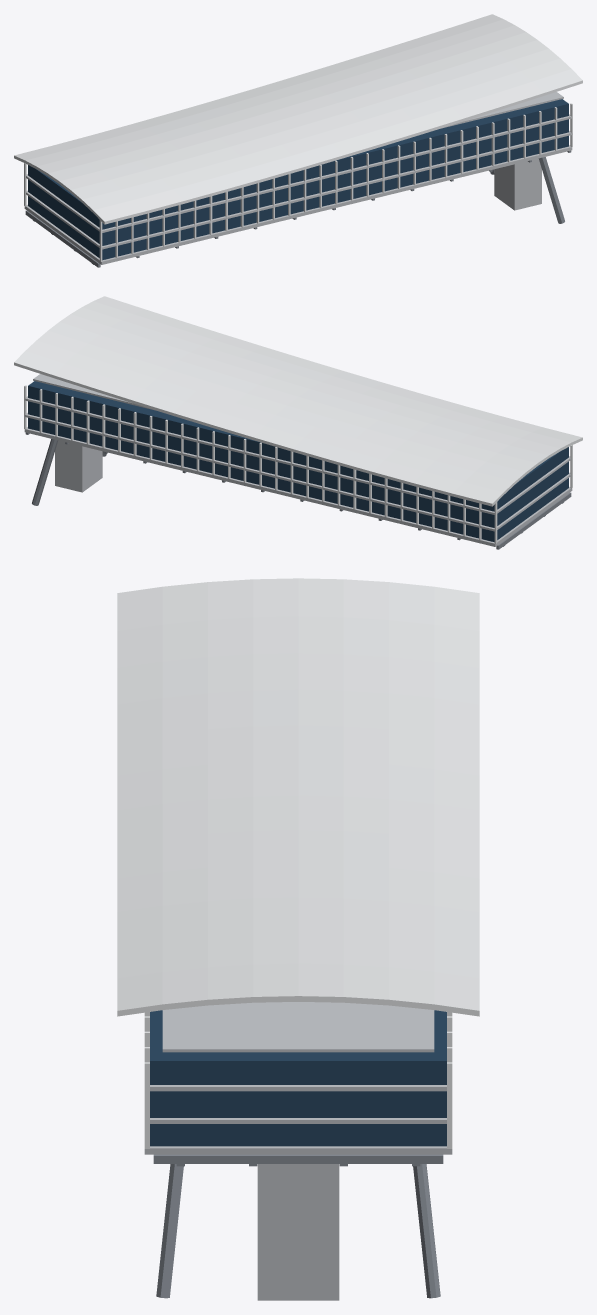
The model's file is shanghai-ala.glb.
3 renders of one model, top to bottom at view 1: azimuth 30°, elevation 25°; view 2: azimuth 150°, elevation 25°; view 3: azimuth 270°, elevation 25°, orthographic. The views are drawn at different scales.
Visible parts, largest first — view 1: shanghai-ala; view 2: shanghai-ala; view 3: shanghai-ala.
Part boxes in pixels (x1,y1,x2,y2): shanghai-ala: (14,14,582,267); shanghai-ala: (14,296,582,549); shanghai-ala: (117,578,479,1300).
Size of the model in its own units: 122 by 38.01 by 40.
